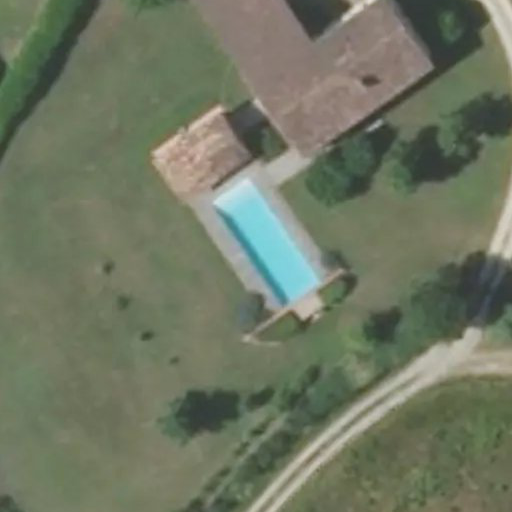pool: (196, 198, 316, 285)
